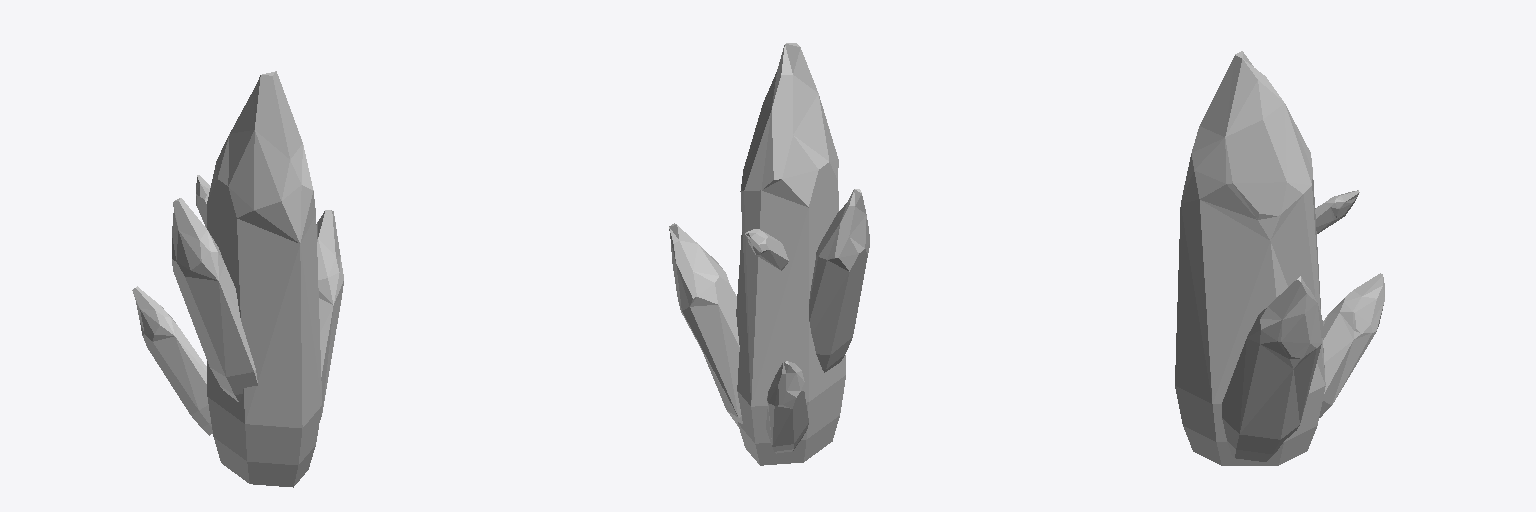
3 renders of one model, left to right at view 1: azimuth 30°, elevation 25°; view 2: azimuth 150°, elevation 25°; view 3: azimuth 270°, elevation 25°, orthographic.
Parts seen in each view (by area): view 1: test_c_Cylinder, test_c.001_Cylinder, test_c.004_Cylinder, test_c.002_Cylinder; view 2: test_c_Cylinder, test_c.001_Cylinder, test_c.002_Cylinder, test_c.004_Cylinder, test_c.005_Cylinder; view 3: test_c_Cylinder, test_c.002_Cylinder, test_c.004_Cylinder, test_c.005_Cylinder.
Part boxes in pixels (x1,y1,x2,y2): test_c_Cylinder: (207,71,321,487); test_c.001_Cylinder: (172,198,257,402); test_c.004_Cylinder: (132,286,212,435); test_c.002_Cylinder: (316,210,343,419); test_c_Cylinder: (736,43,845,465); test_c.001_Cylinder: (809,189,869,372); test_c.002_Cylinder: (669,223,742,426); test_c.004_Cylinder: (766,361,808,453); test_c.005_Cylinder: (745,229,788,270); test_c_Cylinder: (1175,51,1325,465); test_c.002_Cylinder: (1222,276,1322,461); test_c.004_Cylinder: (1319,273,1384,417); test_c.005_Cylinder: (1315,190,1359,233).
Bounding box in the file's own units: 0.3327 × 0.7124 × 0.3425.